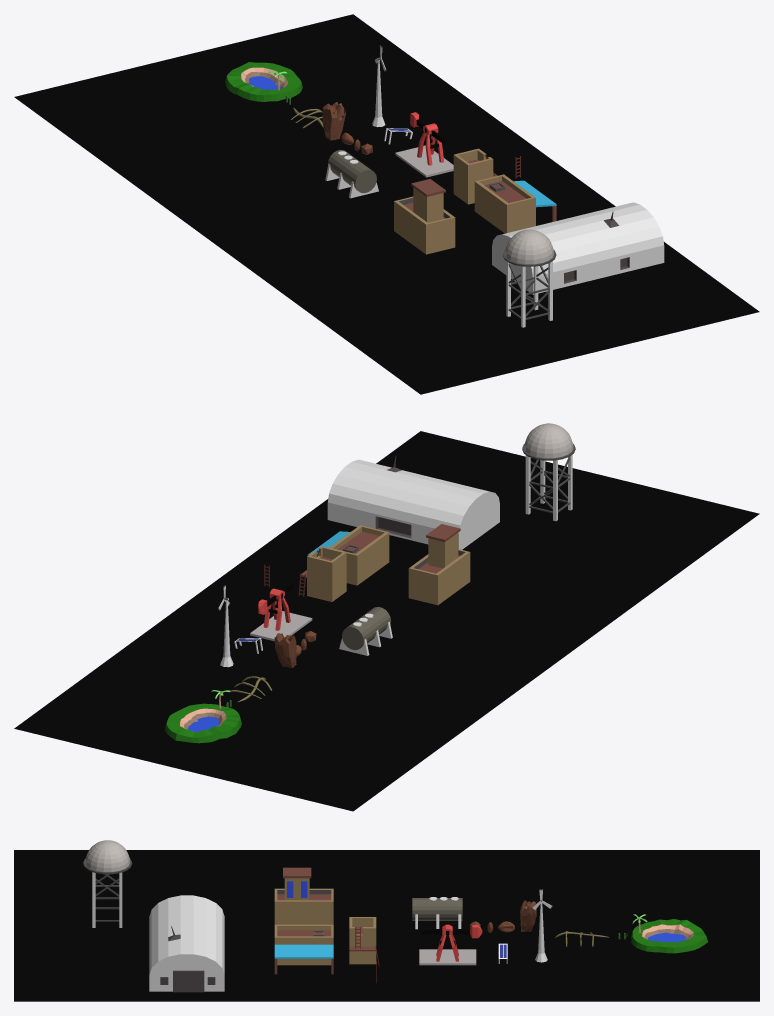
Rendered from Buildings.fbx.
3 views of the same model, one above another, from view 1: azimuth 30°, elevation 25°; view 2: azimuth 150°, elevation 25°; view 3: azimuth 270°, elevation 25° (orthographic). The views are drawn at different scales.
Parts seen in each view (by area): view 1: Plane, Building, House_03, Radio, House_01, Oasis, Oil, House_02, Petroleum, Stone_04; view 2: Plane, Building, House_03, Radio, House_01, Oasis, House_02, Oil, Petroleum, Stone_04; view 3: Plane, Building, House_03, House_01, Radio, Oasis, House_02, Oil, Petroleum, Stone_04, Petroleum _02, Air.
Part boxes in pixels (x1,y1,x2,y2): Plane: (14,14,759,394); Building: (492,202,664,294); House_03: (394,179,455,254); Radio: (503,229,556,327); House_01: (474,174,556,233); Oasis: (225,62,302,101); Oil: (325,149,378,198); House_02: (453,148,497,204); Petroleum: (395,123,453,177); Stone_04: (322,102,346,140); Plane: (14,431,759,811); Building: (327,456,499,549); House_03: (408,524,470,605); Radio: (522,423,575,521); House_01: (307,525,389,585); Oasis: (165,703,241,743); House_02: (298,546,346,601); Oil: (339,607,392,655); Petroleum: (250,588,312,641); Stone_04: (274,633,296,668); Plane: (14,850,759,1001); Building: (149,895,224,992); House_03: (274,867,333,924); House_01: (274,924,333,974); Radio: (83,840,132,927); Oasis: (631,919,707,953); House_02: (349,917,379,966); Oil: (412,897,462,929); Petroleum: (419,924,476,965); Stone_04: (520,900,536,931); Petroleum _02: (421,925,482,938); Air: (535,899,547,962).
Bounding box in the file's own units: 1238 × 311 × 2569.
